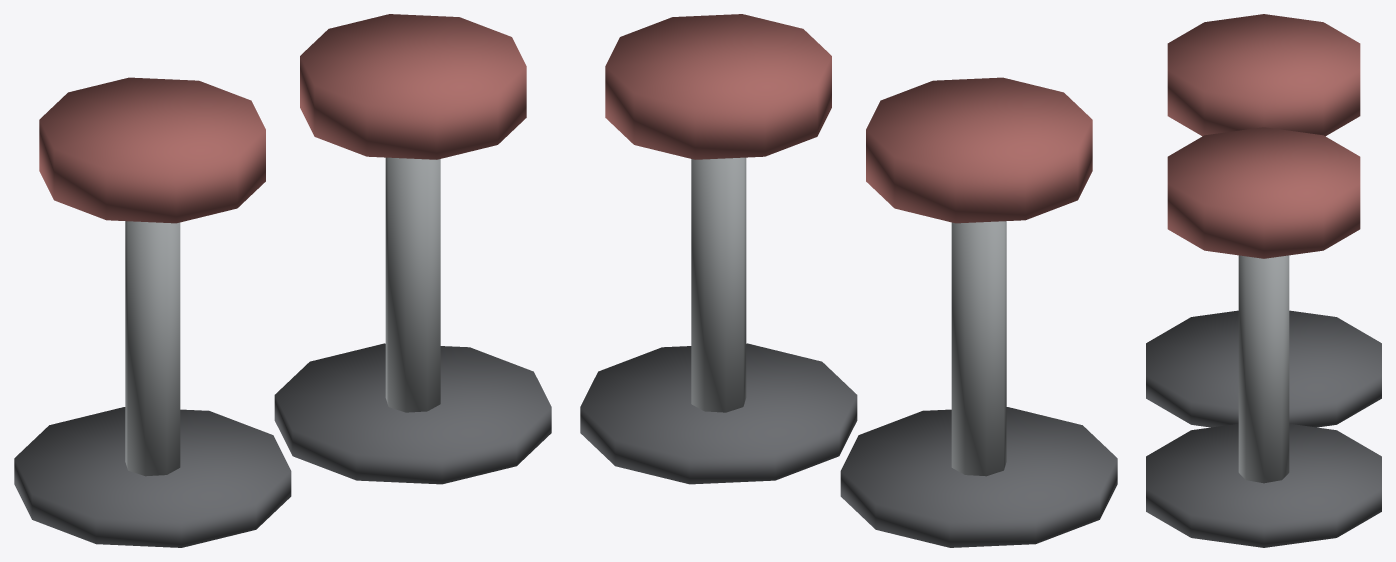
The model's file is diner_counter_stool__cluster.glb.
3 renders of one model, left to right at view 1: azimuth 30°, elevation 25°; view 2: azimuth 150°, elevation 25°; view 3: azimuth 270°, elevation 25°, orthographic. The views are drawn at different scales.
Parts seen in each view (by area): view 1: world; view 2: world; view 3: world.
Part boxes in pixels (x1,y1,x2,y2): world: (14, 14, 551, 547); world: (580, 14, 1117, 547); world: (1146, 14, 1381, 547).
Size of the model in its own units: 0.9152 by 0.665 by 0.4185.
